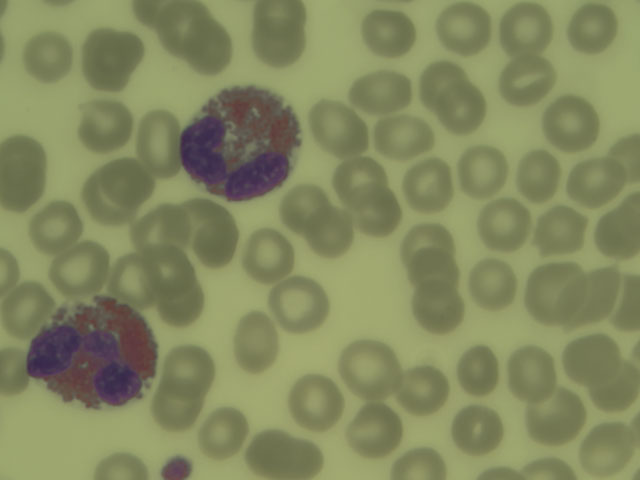Platelets: (162, 456, 197, 480)
RBC: (83, 26, 136, 93), (527, 265, 584, 323), (340, 343, 402, 396), (248, 437, 324, 480), (56, 238, 111, 296), (311, 102, 367, 158), (527, 387, 581, 443), (292, 376, 345, 431), (509, 345, 557, 404), (232, 312, 280, 370), (136, 108, 178, 174), (1, 137, 40, 208), (413, 283, 470, 331), (500, 51, 553, 101), (565, 5, 619, 54), (549, 97, 598, 150), (411, 250, 463, 299), (586, 363, 640, 410), (78, 103, 130, 151), (585, 422, 635, 471), (35, 200, 86, 248), (437, 84, 488, 132), (24, 30, 74, 78), (246, 230, 294, 280), (375, 118, 435, 158), (351, 402, 398, 453), (273, 281, 326, 326), (397, 223, 456, 263), (402, 159, 451, 207), (81, 172, 127, 223), (350, 71, 411, 109), (459, 146, 507, 194), (467, 259, 514, 307), (442, 5, 491, 51), (453, 407, 504, 451), (401, 364, 446, 413), (336, 161, 391, 201), (504, 1, 546, 53), (539, 205, 584, 253), (115, 257, 159, 306), (190, 19, 230, 71), (562, 279, 618, 316), (365, 10, 411, 55), (484, 200, 527, 248), (361, 185, 401, 236), (521, 150, 560, 202), (597, 210, 640, 257), (201, 407, 243, 455), (103, 160, 154, 199), (567, 337, 615, 378), (175, 201, 229, 237), (167, 348, 215, 388), (8, 288, 51, 332), (313, 206, 353, 253), (162, 6, 210, 45), (423, 59, 467, 101), (571, 161, 618, 200), (255, 30, 308, 64), (138, 208, 186, 245), (462, 345, 498, 394), (152, 388, 197, 426), (254, 1, 306, 32), (284, 189, 324, 229), (152, 253, 194, 291), (397, 446, 443, 480), (95, 452, 150, 480), (610, 135, 640, 184), (164, 285, 203, 321), (1, 348, 29, 397), (203, 222, 235, 262), (528, 456, 576, 480), (132, 1, 178, 23), (1, 245, 17, 292)
WBC: (181, 87, 301, 193), (34, 303, 157, 403)
